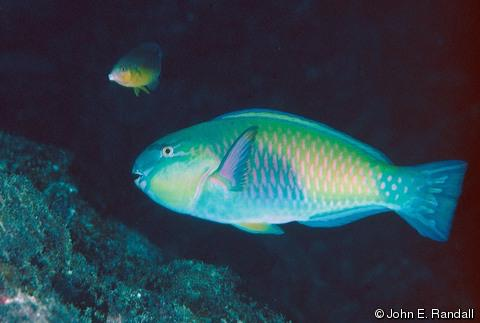Scaridae -Parrotfishes-: (126, 101, 466, 248)
